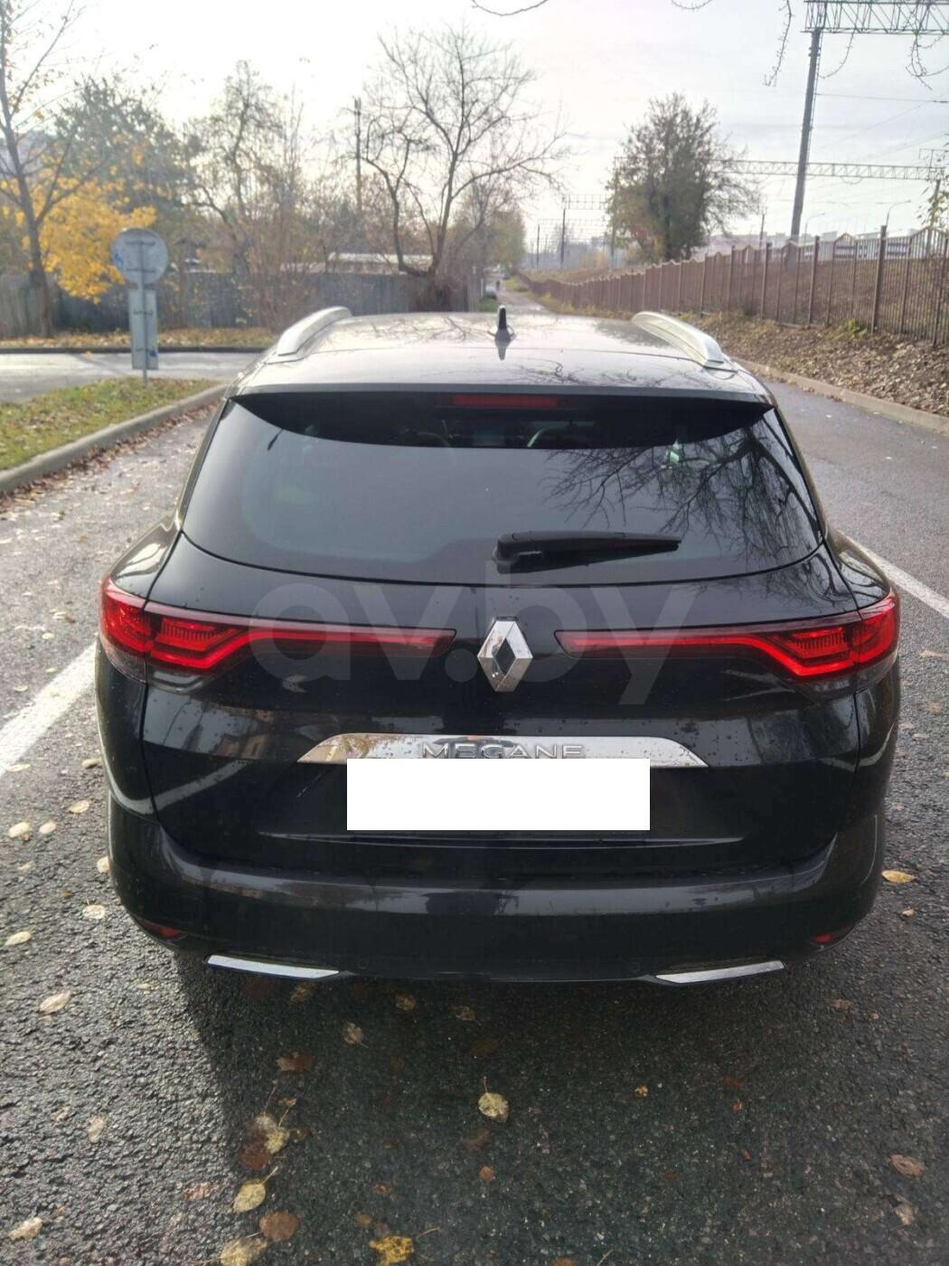Megane_2020: (105, 306, 897, 998)
